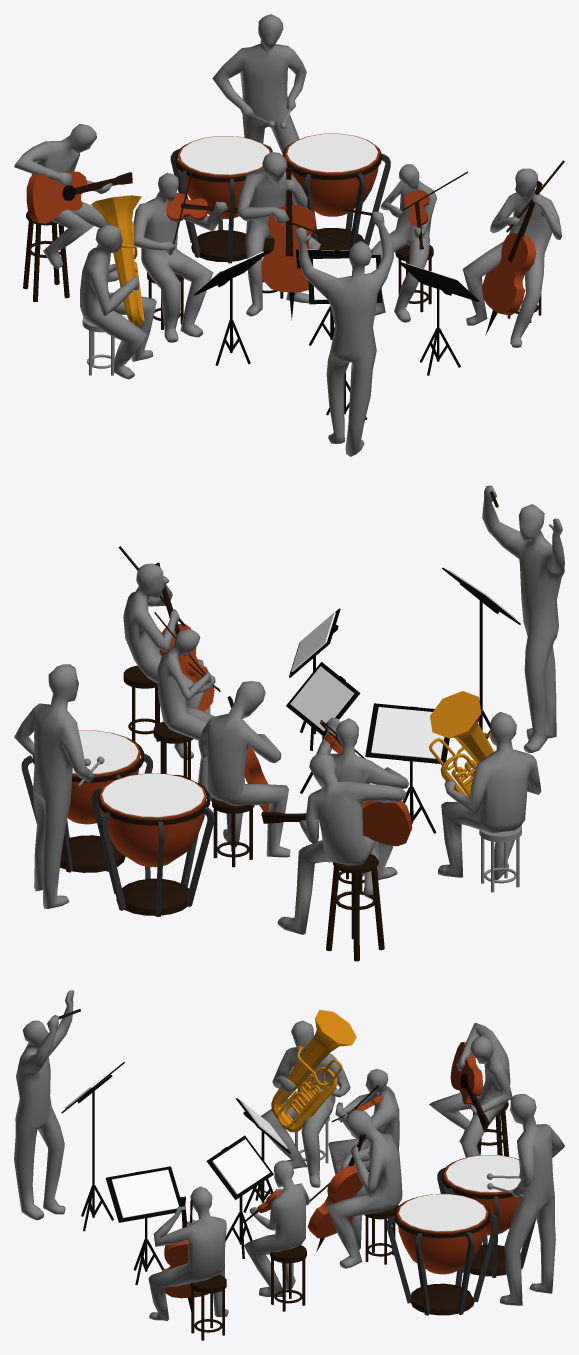
File: uploads_files_2013237_Orchestra.FBX
3 views of the same model, one above another, from view 1: azimuth 30°, elevation 25°; view 2: azimuth 150°, elevation 25°; view 3: azimuth 270°, elevation 25° (orthographic). The views are drawn at different scales.
Visible parts, largest first — view 1: Konduktor, Percussion, Biola 01, Cello 02, Percussion_Instrument, Trumpet, Cello 01, Guitar, Biola 02, Line011, Cello_Instrument 02, Line031 (+15 smaller); view 2: Konduktor, Percussion, Trumpet, Guitar, Cello 01, Percussion_Instrument, Cello 02, Biola 02, Cylinder014, Line031, Biola 01, Line074 (+18 smaller); view 3: Konduktor, Percussion, Cello 01, Cello 02, Percussion_Instrument, Guitar, Trumpet, Line031, Biola 02, Biola 01, Cylinder013, Line016 (+15 smaller).
Part boxes in pixels (<box>): Konduktor: <box>295,211,393,456</box>; Percussion: <box>212,14,306,204</box>; Biola 01: <box>133,173,227,342</box>; Cello 02: <box>462,168,561,347</box>; Percussion_Instrument: <box>180,134,377,174</box>; Trumpet: <box>80,224,156,379</box>; Cello 01: <box>236,152,320,316</box>; Guitar: <box>14,124,118,281</box>; Biola 02: <box>371,164,436,322</box>; Line011: <box>261,204,316,292</box>; Cello_Instrument 02: <box>482,233,536,315</box>; Line031: <box>91,195,144,326</box>; Konduktor: <box>482,485,564,752</box>; Percussion: <box>14,664,94,908</box>; Trumpet: <box>438,712,541,879</box>; Guitar: <box>277,752,406,934</box>; Cello 01: <box>198,681,290,857</box>; Percussion_Instrument: <box>72,730,204,817</box>; Cello 02: <box>123,563,210,759</box>; Biola 02: <box>157,629,215,801</box>; Cylinder014: <box>99,773,206,867</box>; Line031: <box>430,691,493,797</box>; Biola 01: <box>316,718,409,879</box>; Line074: <box>91,783,214,916</box>; Konduktor: <box>14,990,74,1220</box>; Percussion: <box>499,1094,564,1305</box>; Cello 01: <box>326,1110,402,1268</box>; Cello 02: <box>148,1186,228,1321</box>; Percussion_Instrument: <box>399,1155,520,1231</box>; Guitar: <box>429,1023,512,1157</box>; Trumpet: <box>261,1020,350,1187</box>; Line031: <box>271,1010,356,1132</box>; Biola 02: <box>244,1160,309,1296</box>; Biola 01: <box>328,1069,399,1174</box>; Cylinder013: <box>397,1194,488,1274</box>; Line016: <box>386,1213,498,1315</box>.
Size of the model in its own units: 40.18 by 20.44 by 47.14.
